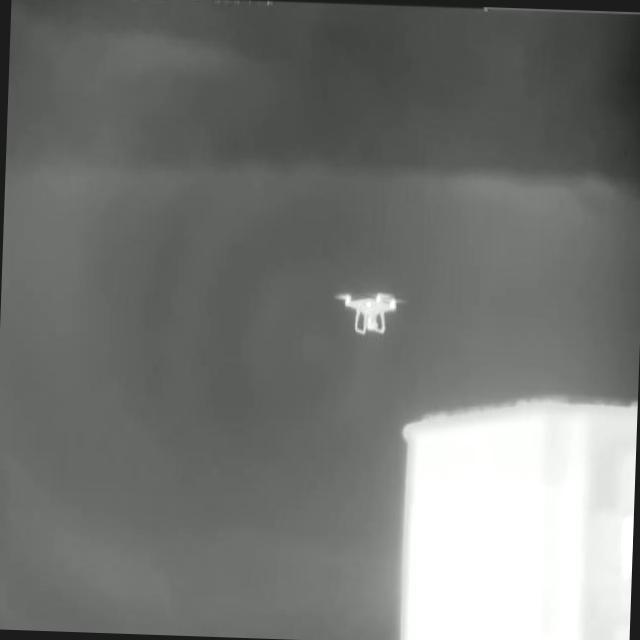DRONE: (332, 288, 407, 337)
